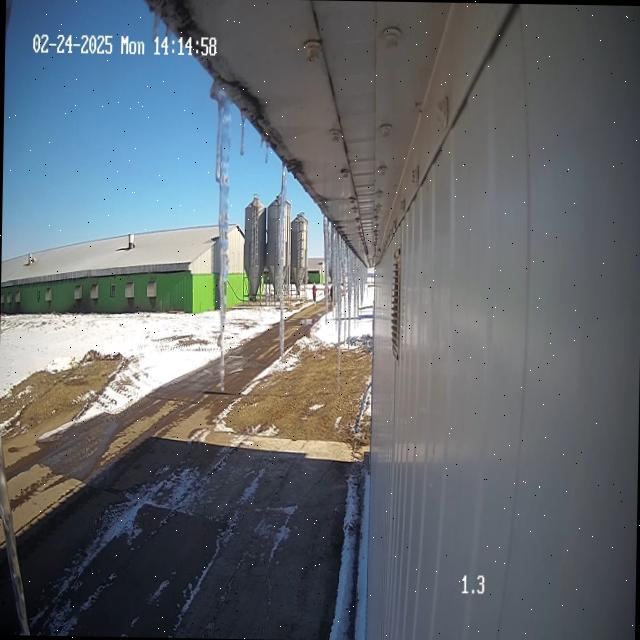Red uniform: (312, 283, 317, 302)
